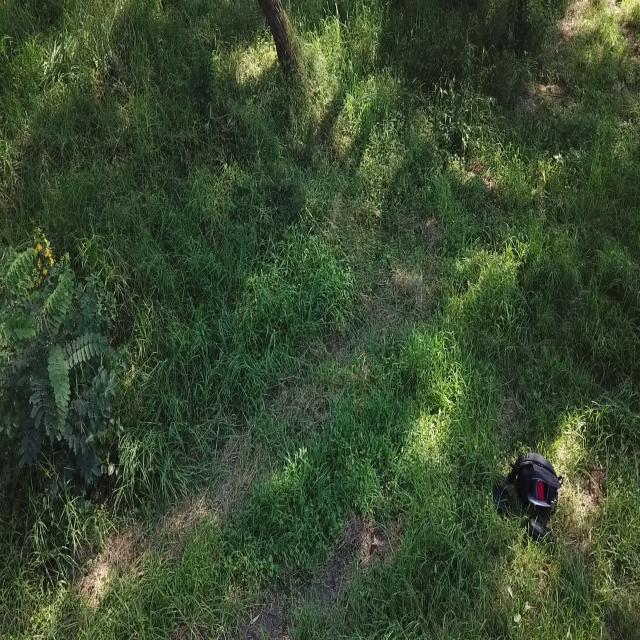Mysore-Thorn-Weed: (0, 241, 120, 508)
